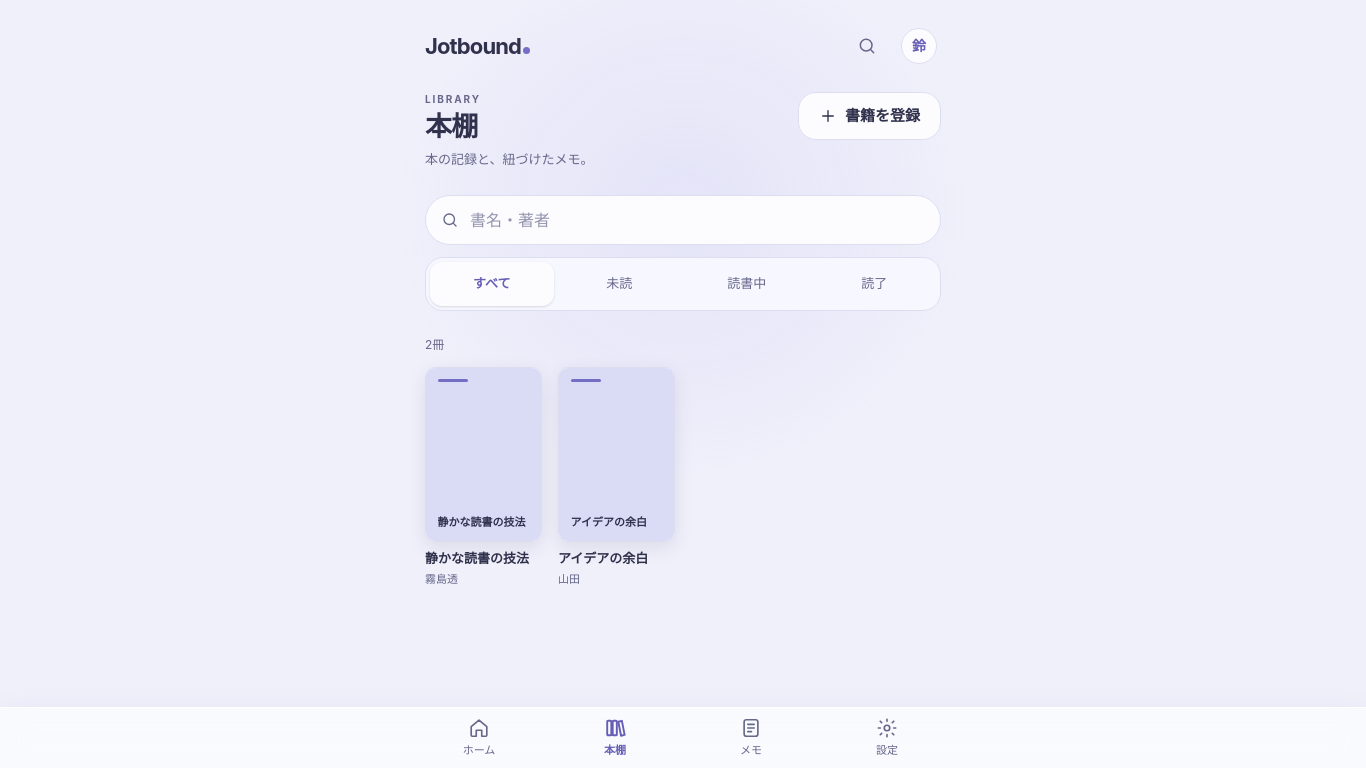
Test: 本棚 › 書名・著者・読書状態で絞り込める（書影なしは代替表紙）
In the search field: (683, 220) x1=425 y1=195 x2=941 y2=245, type "アイデア"
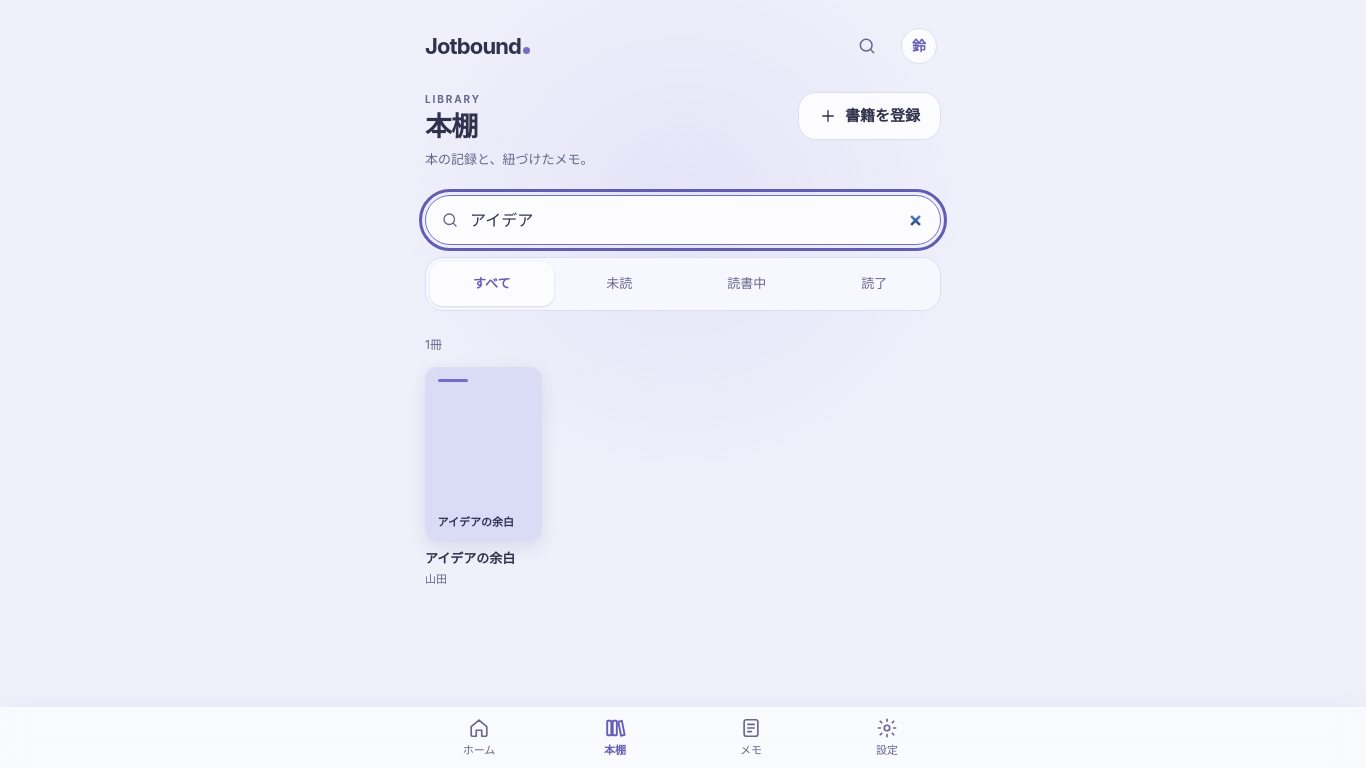
Replace the text in the search field with "霧島": (683, 220) x1=425 y1=195 x2=941 y2=245
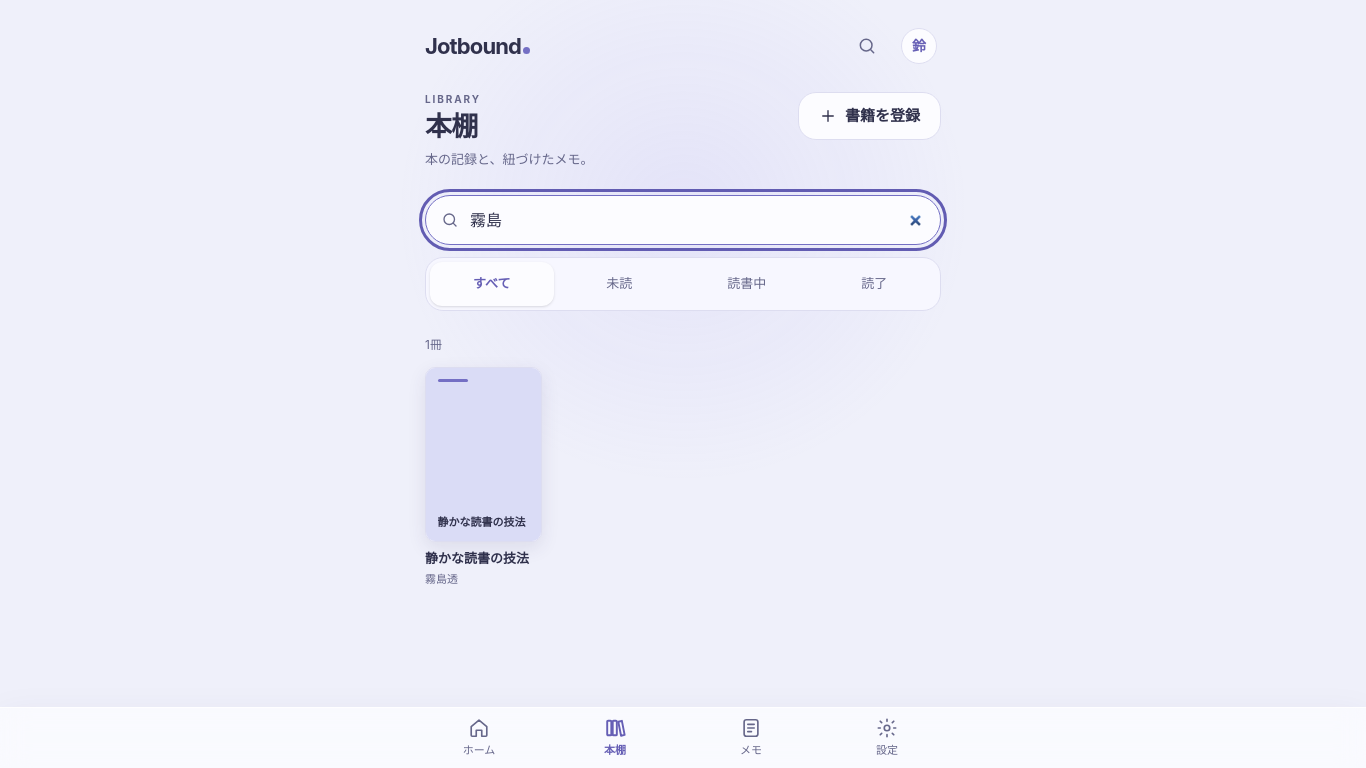
Clear the search field: (683, 220) x1=425 y1=195 x2=941 y2=245
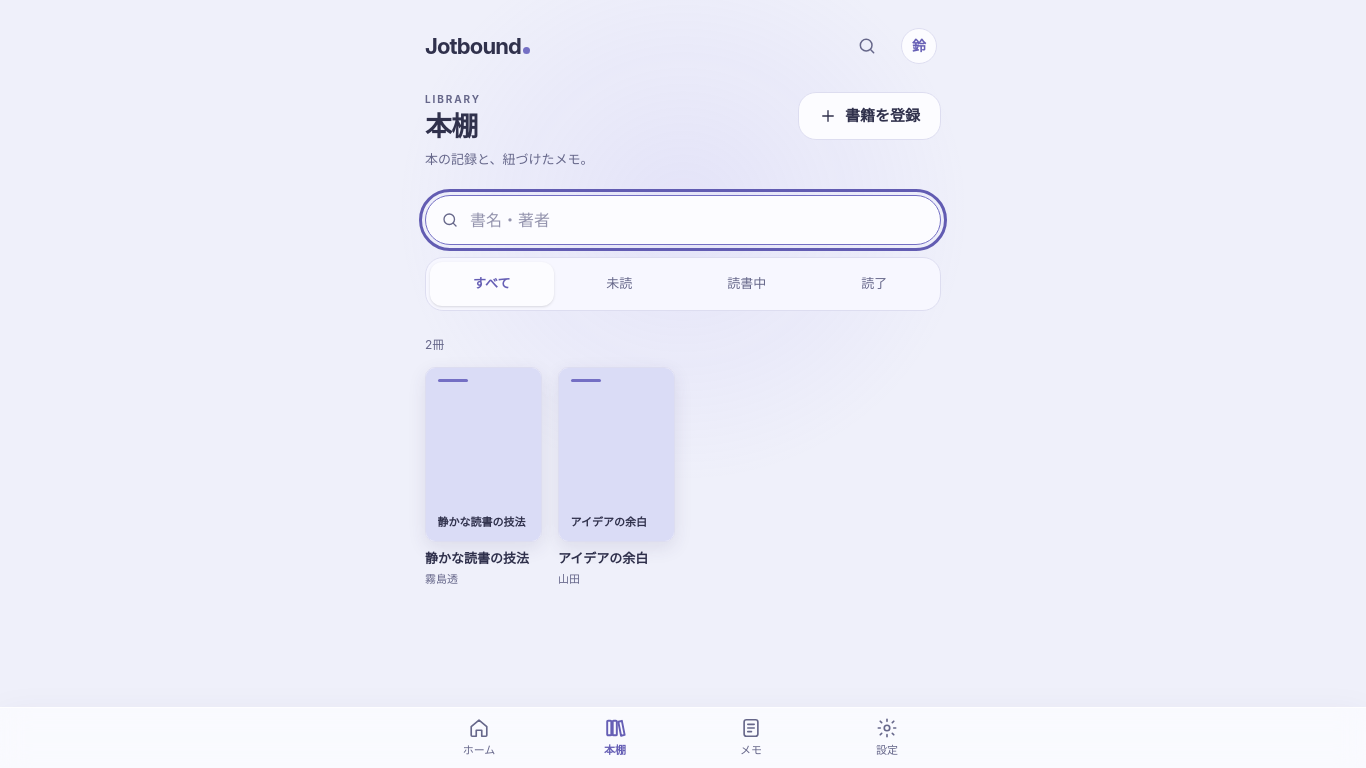
Click the radio button labelled "読了": click(874, 283) x1=861 y1=275 x2=887 y2=291
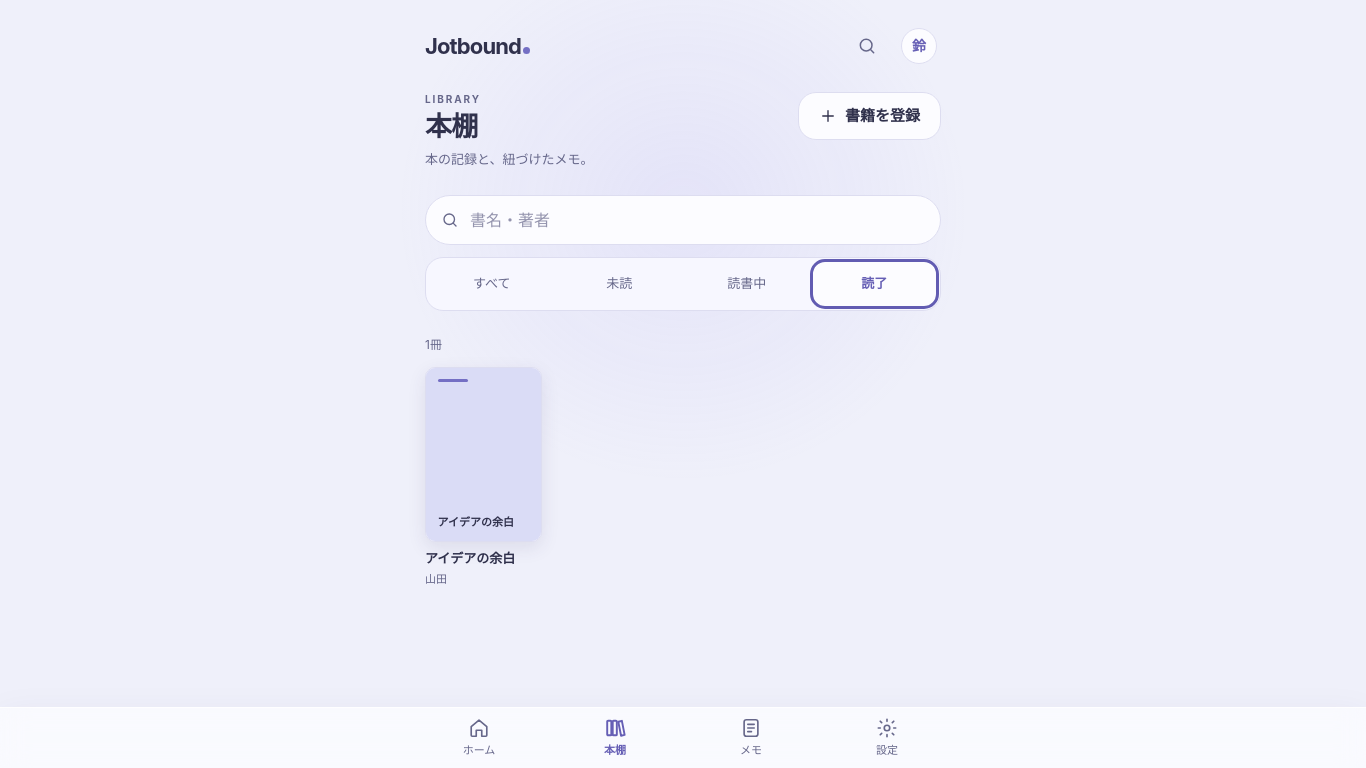
Now the link "アイデアの余白 アイデアの余白 山田" is shown, box x1=425 y1=367 x2=542 y2=588
Click the radio button labelled "未読": click(619, 283) x1=606 y1=275 x2=632 y2=291
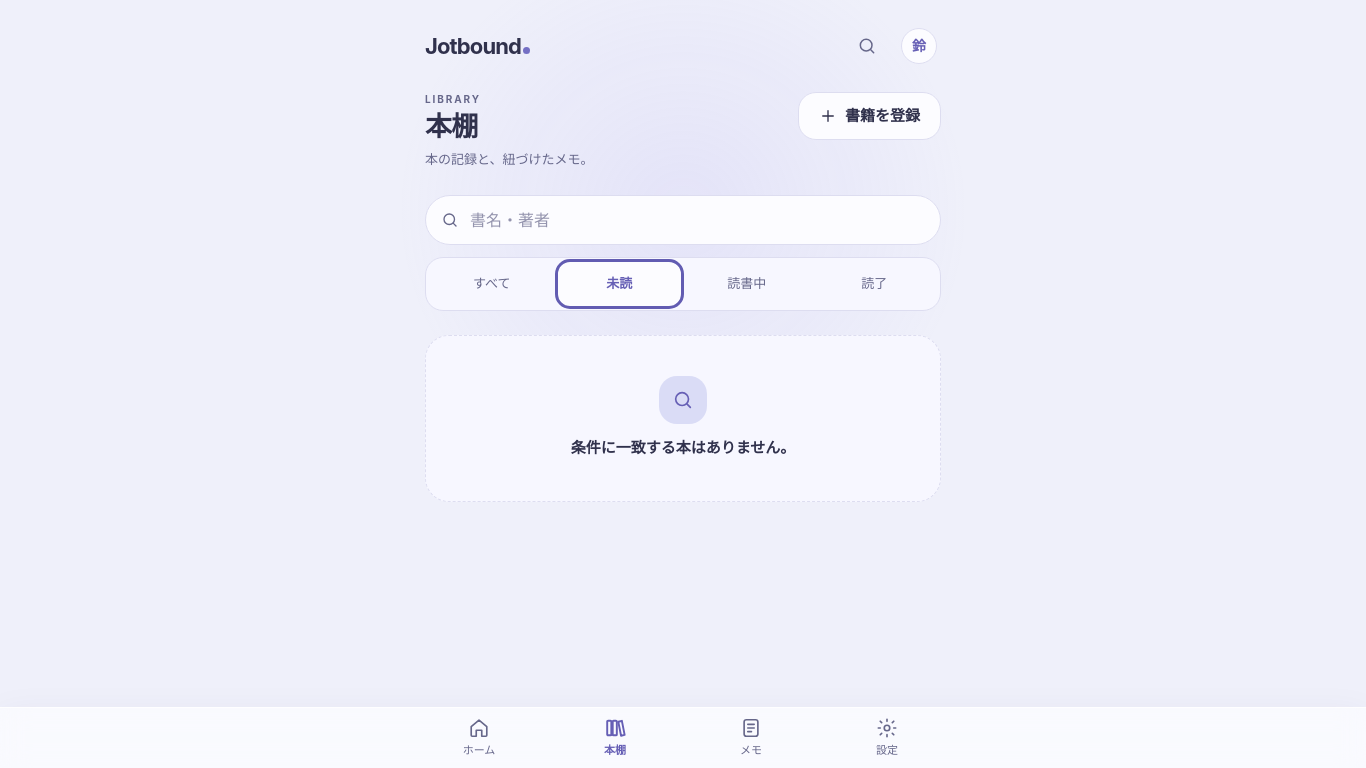
Now the text "条件に一致する本はありません。" is shown, box x1=571 y1=436 x2=795 y2=461
